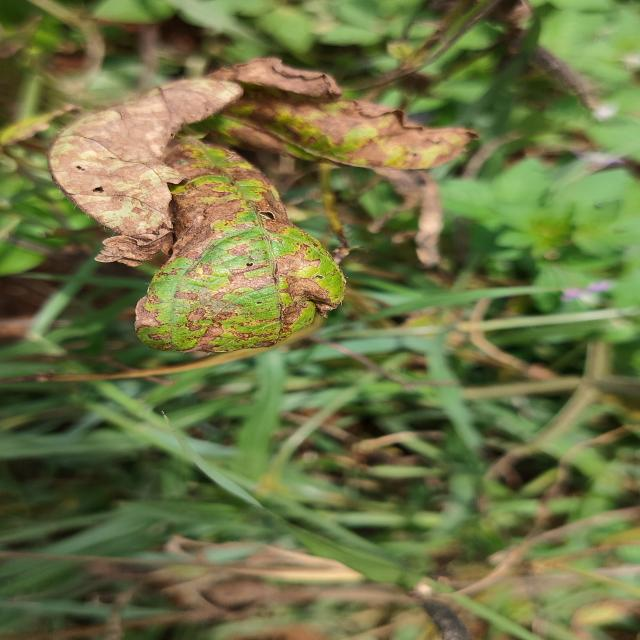Black gram_leaf spot: (51, 72, 352, 361), (196, 55, 481, 168)
